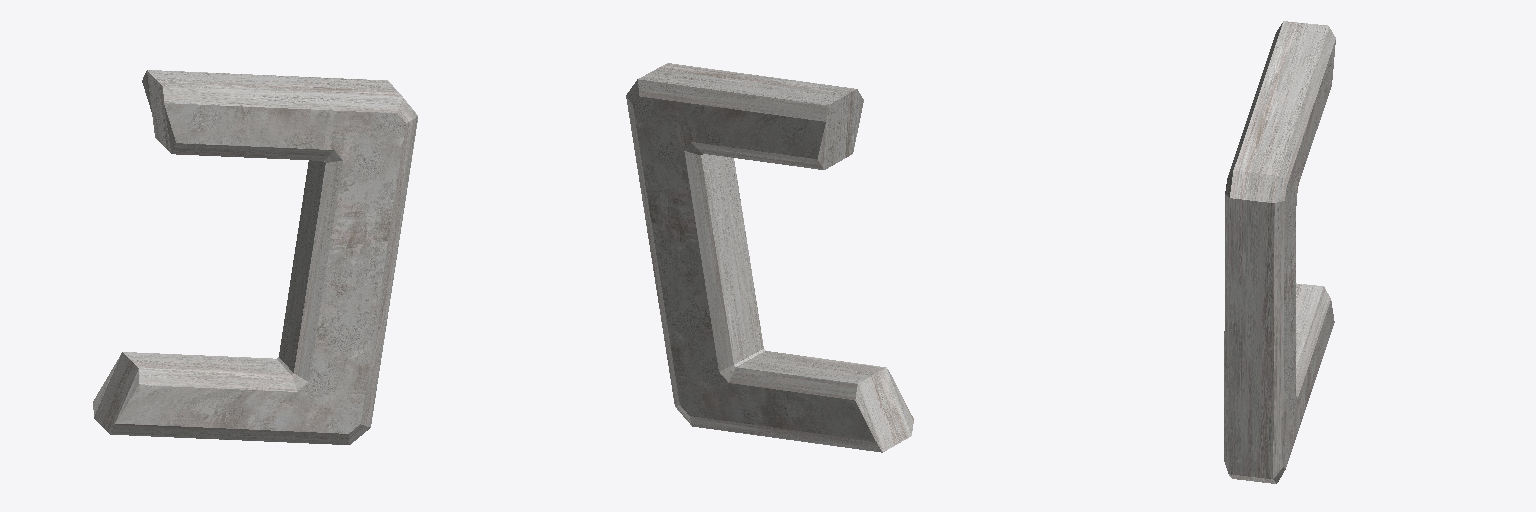
3 views of the same model, side by side, from view 1: azimuth 30°, elevation 25°; view 2: azimuth 150°, elevation 25°; view 3: azimuth 270°, elevation 25° (orthographic).
Bounding box in the file's own units: 0.5128 × 0.6449 × 0.1721.
Materials: 1 (1 with a texture image).